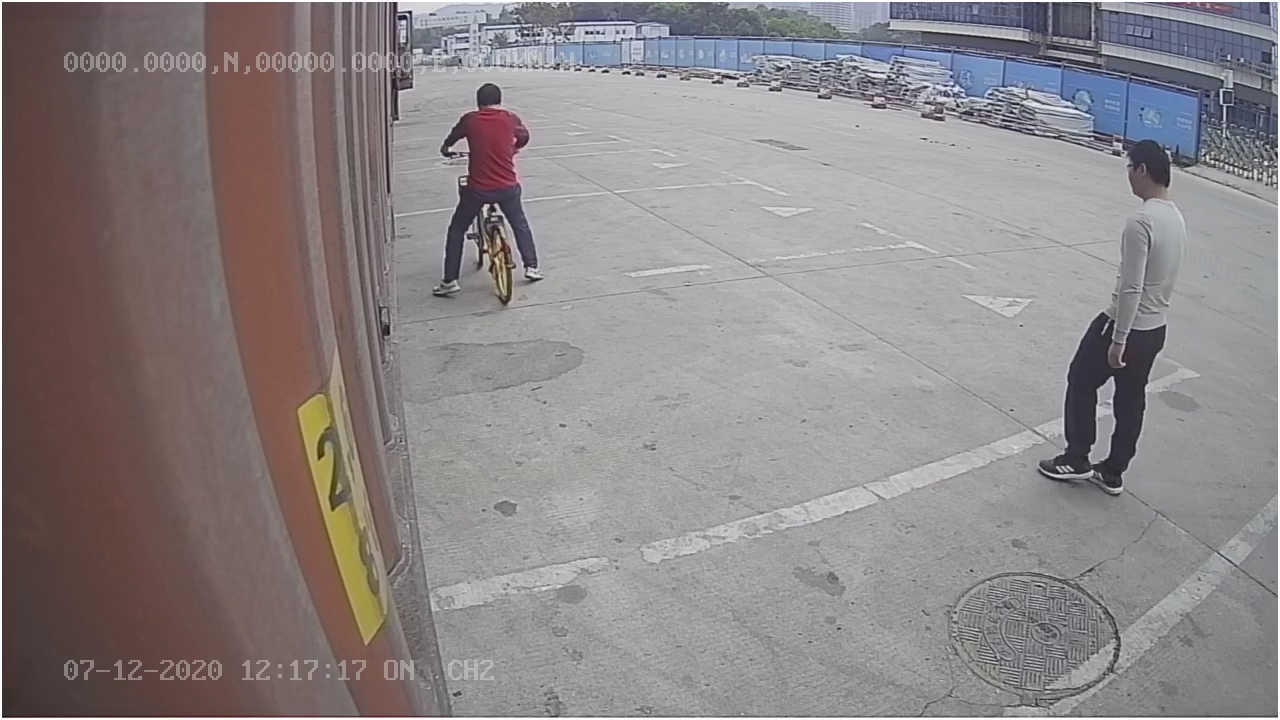person: (1030, 127, 1192, 497)
